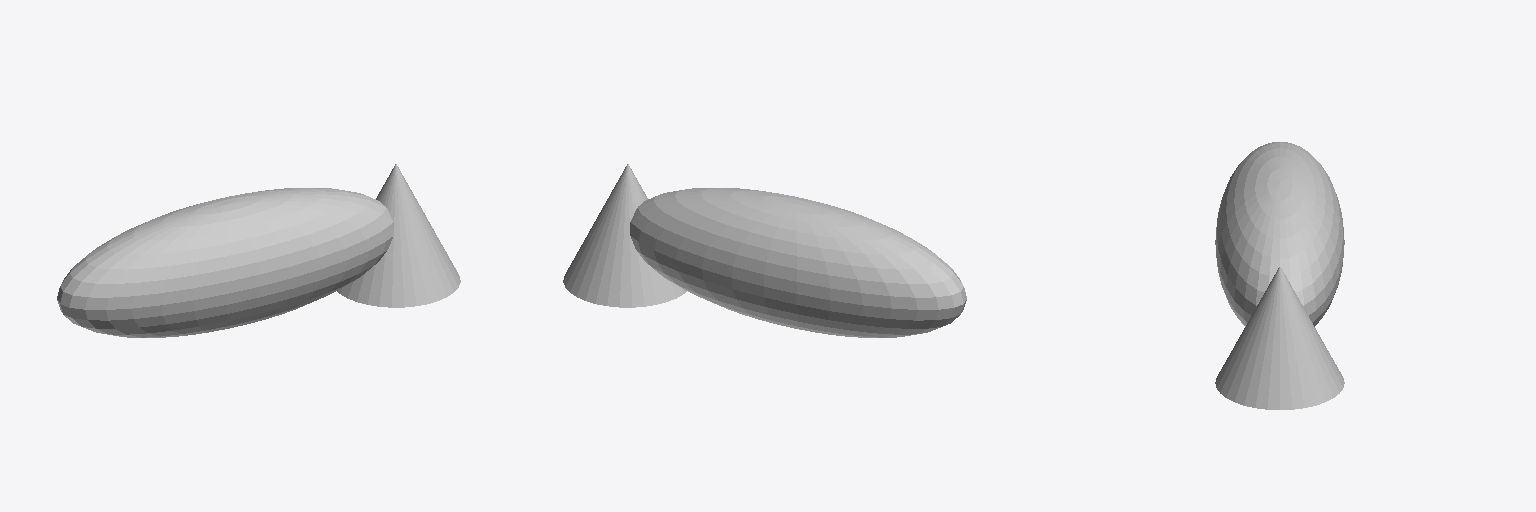
3 renders of one model, left to right at view 1: azimuth 30°, elevation 25°; view 2: azimuth 150°, elevation 25°; view 3: azimuth 270°, elevation 25°, orthographic.
Visible parts, largest first — view 1: FishBody; view 2: FishBody; view 3: FishBody.
Boxes of the visible parts, x1=… form: FishBody: x1=57, y1=164, x2=460, y2=337; FishBody: x1=563, y1=164, x2=966, y2=337; FishBody: x1=1215, y1=142, x2=1344, y2=409.
Size of the model in its own units: 2 by 0.5714 by 0.5714.